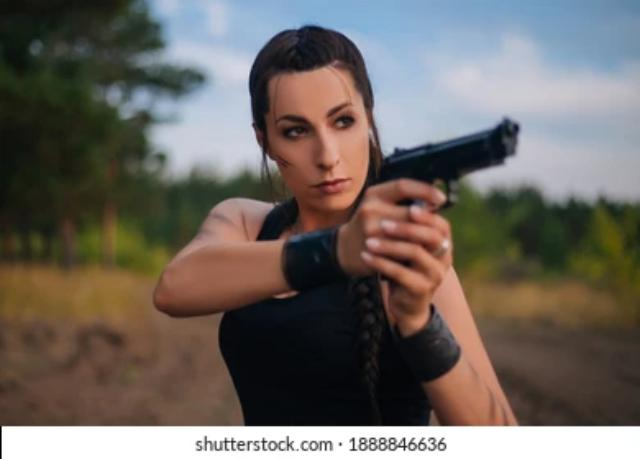other: (195, 22, 470, 411)
